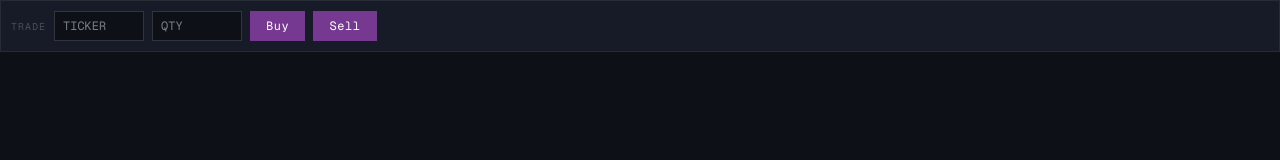
Test case: TradeBar › shows the backend detail message on error
Type "tsla" into the field labelled "TICKER".
click(99, 26); type("tsla")  # box [54,11,144,41]
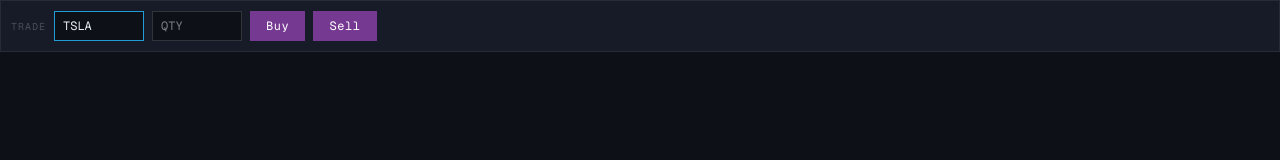
Type "100" into the number field named "quantity".
click(197, 26); type("100")  # box [152,11,242,41]
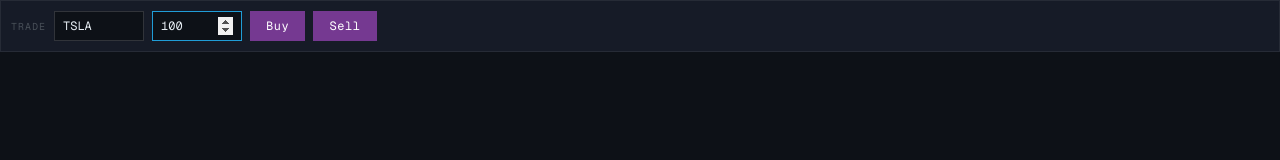
Click the button "Buy".
click(278, 26)  # box [250,11,305,41]
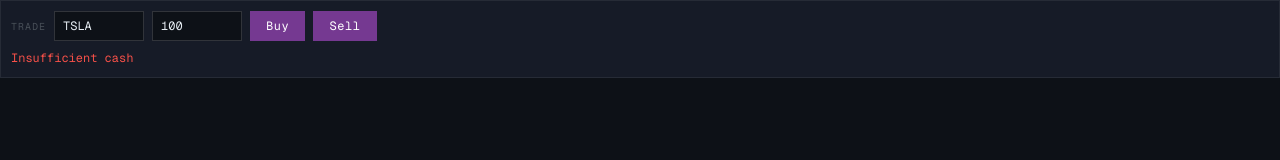
Result: the message with test id "trade-status" reads "Insufficient cash" at [11,50,133,66]
